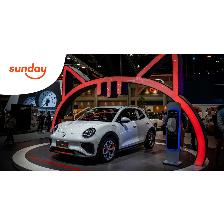EV: (50, 106, 157, 163)
